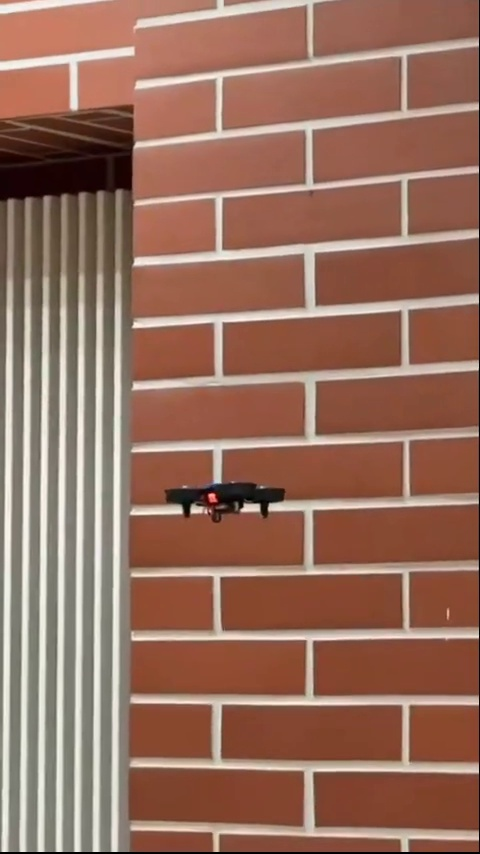drone: (160, 475, 289, 520)
